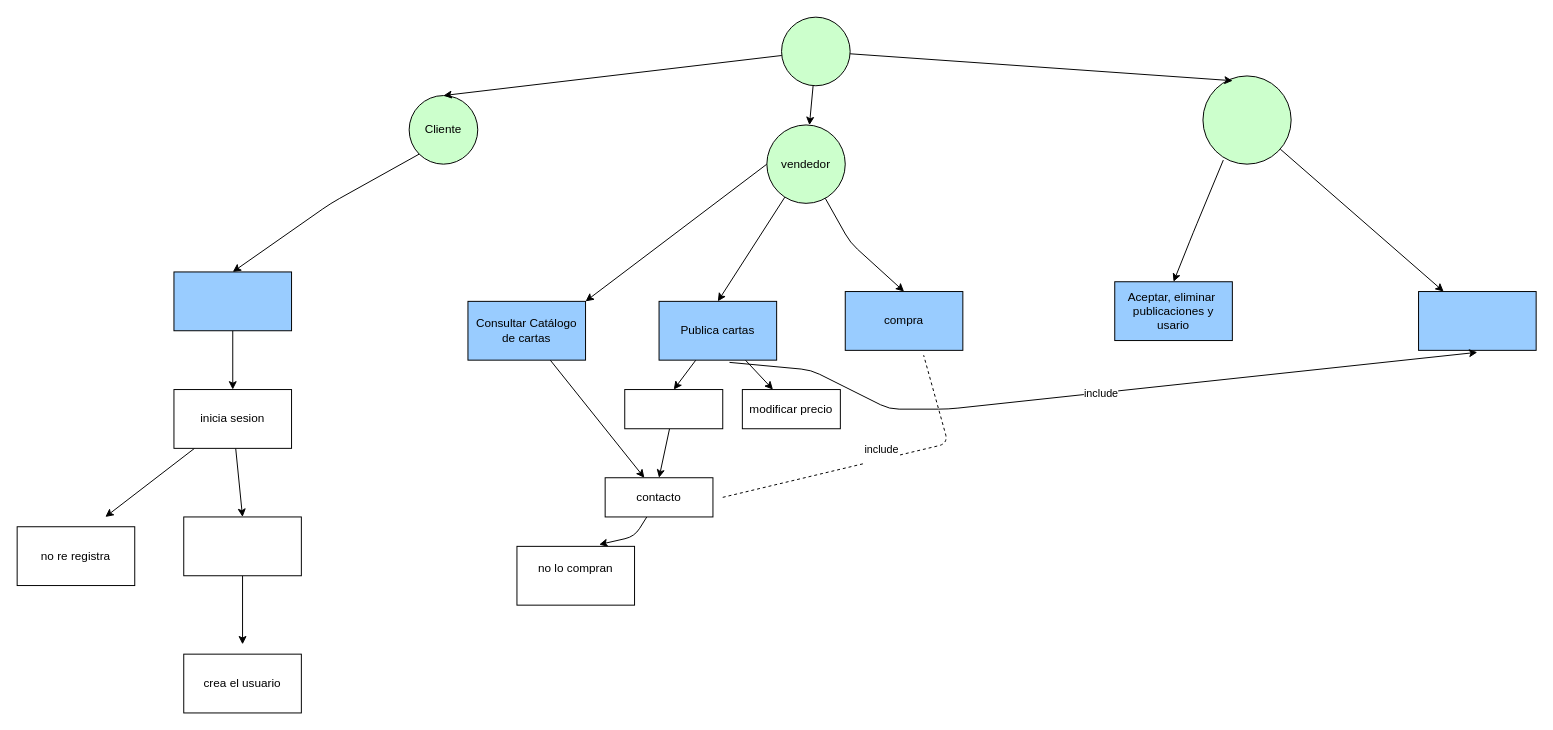
This 1553x730 diagram has some shape labels left out. The centre of each missing label's shape, as x and y in pixels:
"Administrador" goes at point (1246, 119).
"completar datos" goes at point (673, 409).
"Registrarse" goes at point (232, 301).
"Usuario" goes at point (815, 51).
"Validar Autencidad" goes at point (1477, 320).
"validar email" goes at point (242, 546).
